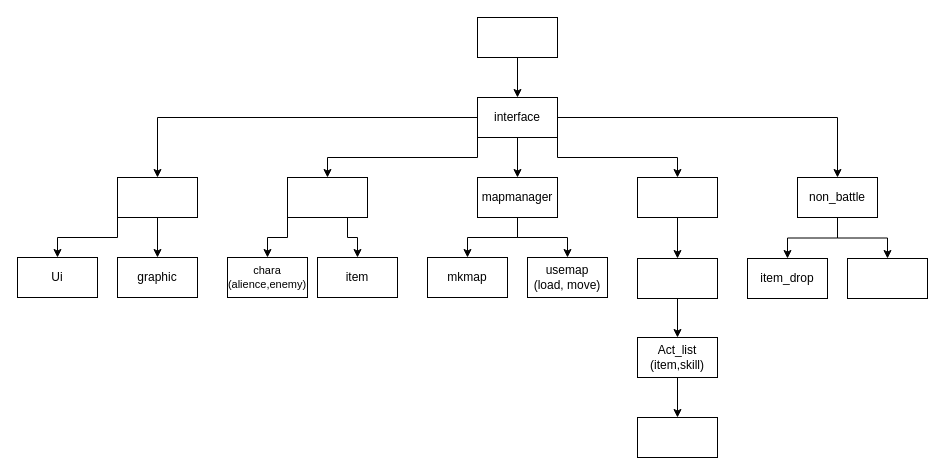
The diagram is 945 pixels wide and 475 high, and some of its shapes have lost their labels. Each missing label, with the centre of its shape:
Act_excute (s_target,I_use): the point at 677,437
battle: the point at 677,197
dict: the point at 327,197
graphic_ui: the point at 157,197
main: the point at 517,37
order of act (speed,carc_act): the point at 677,278
